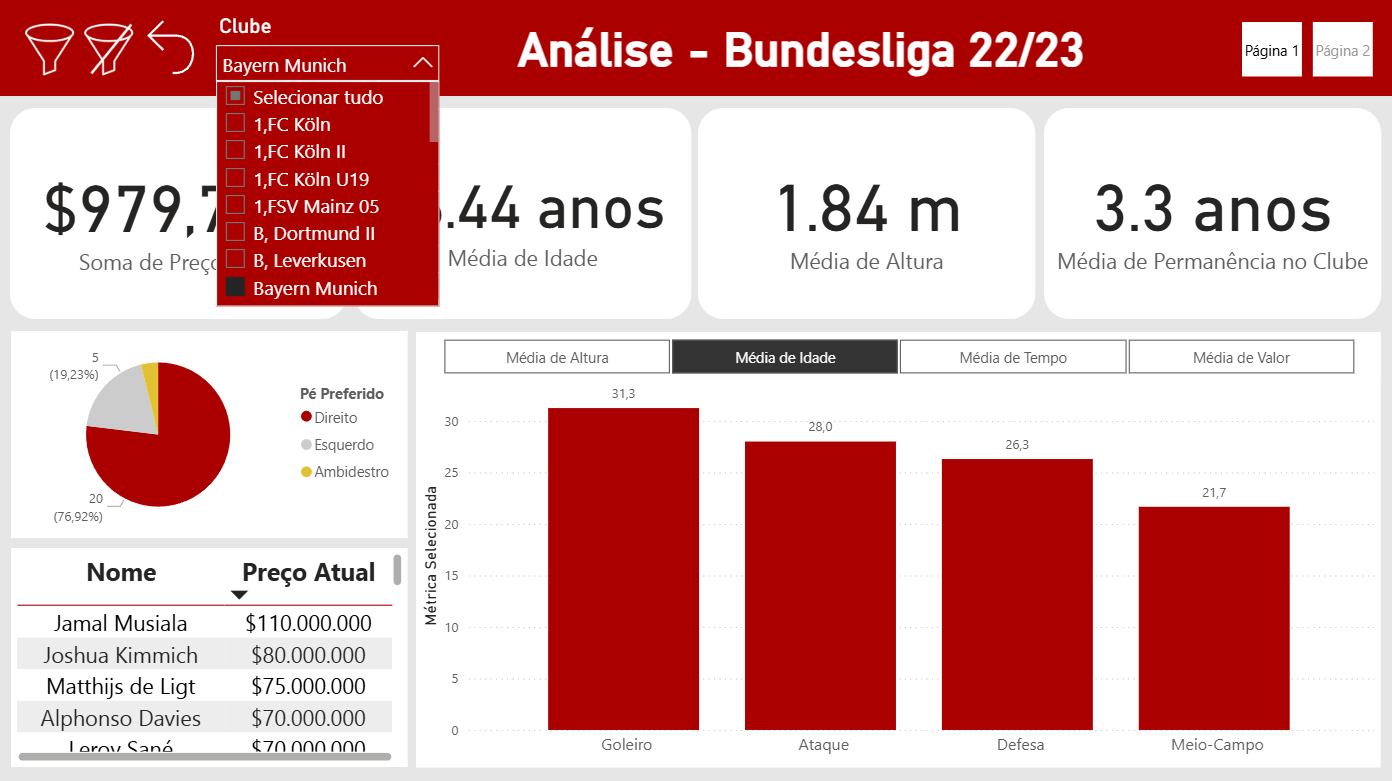

What the dashboard file says about the page in this screenshot:
{"tool":"powerbi","page":{"name":"Página 1","canvas":[1280,720],"ordinal":0},"visuals":[{"type":"textbox","box":[194.7,16.7,1085.3,60.7],"z":1000},{"type":"shape","box":[0,89.1,1280,630.1],"z":2000},{"type":"shape","box":[959.4,99.9,309.5,193.6],"z":3000},{"type":"tableEx","fields":{"Values":["bundesliga_player 2.Nome","Sum(bundesliga_player 2.Preço Atual)"]},"box":[11.7,504.1,364,200.6],"z":4000},{"type":"shape","box":[11.1,99.9,309.5,193.6],"z":5000},{"type":"card","fields":{"Values":["Sum(bundesliga_player 2.Preço Atual)"]},"box":[11.1,133.2,309.5,129.5],"z":6000},{"type":"clusteredColumnChart","title":"_","fields":{"Category":["bundesliga_player 2.Posição"],"Y":["Avg(bundesliga_player 2.Idade)"]},"box":[383.2,304.6,885.2,400.1],"z":7000},{"type":"pieChart","fields":{"Category":["bundesliga_player 2.Pé Preferido"],"Y":["CountNonNull(bundesliga_player 2.Pé Preferido)"]},"box":[11.7,304.6,364,190],"z":8000},{"type":"card","fields":{"Values":["bundesliga_player.Média de Permanência no Clube","select","select1"]},"box":[959.4,131.9,309.5,129.5],"z":9000},{"type":"textbox","box":[578.8,314.4,690,42.9],"z":10000},{"type":"shape","box":[326.8,99.9,309.5,193.6],"z":11000},{"type":"card","fields":{"Values":["bundesliga_player.Média de Idade (com texto)"]},"box":[326.8,131.9,309.5,129.5],"z":12000},{"type":"pageNavigator","box":[1141.2,21.4,120.4,50],"z":13000},{"type":"actionButton","box":[126.8,8.5,64,71.2],"z":14000},{"type":"shape","box":[642.5,99.9,309.5,193.6],"z":15000},{"type":"card","fields":{"Values":["bundesliga_player.Média de Altura (m)"]},"box":[642.5,131.9,309.5,129.5],"z":16000},{"type":"image","box":[19.3,7.2,114.7,77.3],"z":17000},{"type":"actionButton","box":[19.3,8.5,58,68.8],"z":18000},{"type":"actionButton","box":[76.1,8.5,58,68.8],"z":19000},{"type":"slicer","fields":{"Values":["bundesliga_player 2.Clube"]},"box":[189.6,8.5,224.6,68.8],"z":19500}]}

Visuals, with their boxes in screenshot pixels (x1, y1, x2, y2), scaled from the page's 1280x720 canvas onto the 1392x781 screenshot:
textbox: box(212, 18, 1391, 84)
shape: box(0, 97, 1391, 780)
shape: box(1043, 108, 1380, 318)
tableEx - bundesliga_player 2.Nome x Sum(bundesliga_player 2.Preço Atual): box(13, 547, 409, 764)
shape: box(12, 108, 349, 318)
card - Sum(bundesliga_player 2.Preço Atual): box(12, 144, 349, 285)
"_" clusteredColumnChart: box(417, 330, 1379, 764)
pieChart - bundesliga_player 2.Pé Preferido x CountNonNull(bundesliga_player 2.Pé Preferido): box(13, 330, 409, 537)
card - bundesliga_player.Média de Permanência no Clube x select: box(1043, 143, 1380, 284)
textbox: box(629, 341, 1380, 388)
shape: box(355, 108, 692, 318)
card - bundesliga_player.Média de Idade (com texto): box(355, 143, 692, 284)
pageNavigator: box(1241, 23, 1372, 77)
actionButton: box(138, 9, 207, 86)
shape: box(699, 108, 1035, 318)
card - bundesliga_player.Média de Altura (m): box(699, 143, 1035, 284)
image: box(21, 8, 146, 92)
actionButton: box(21, 9, 84, 84)
actionButton: box(83, 9, 146, 84)
slicer - bundesliga_player 2.Clube: box(206, 9, 450, 84)
